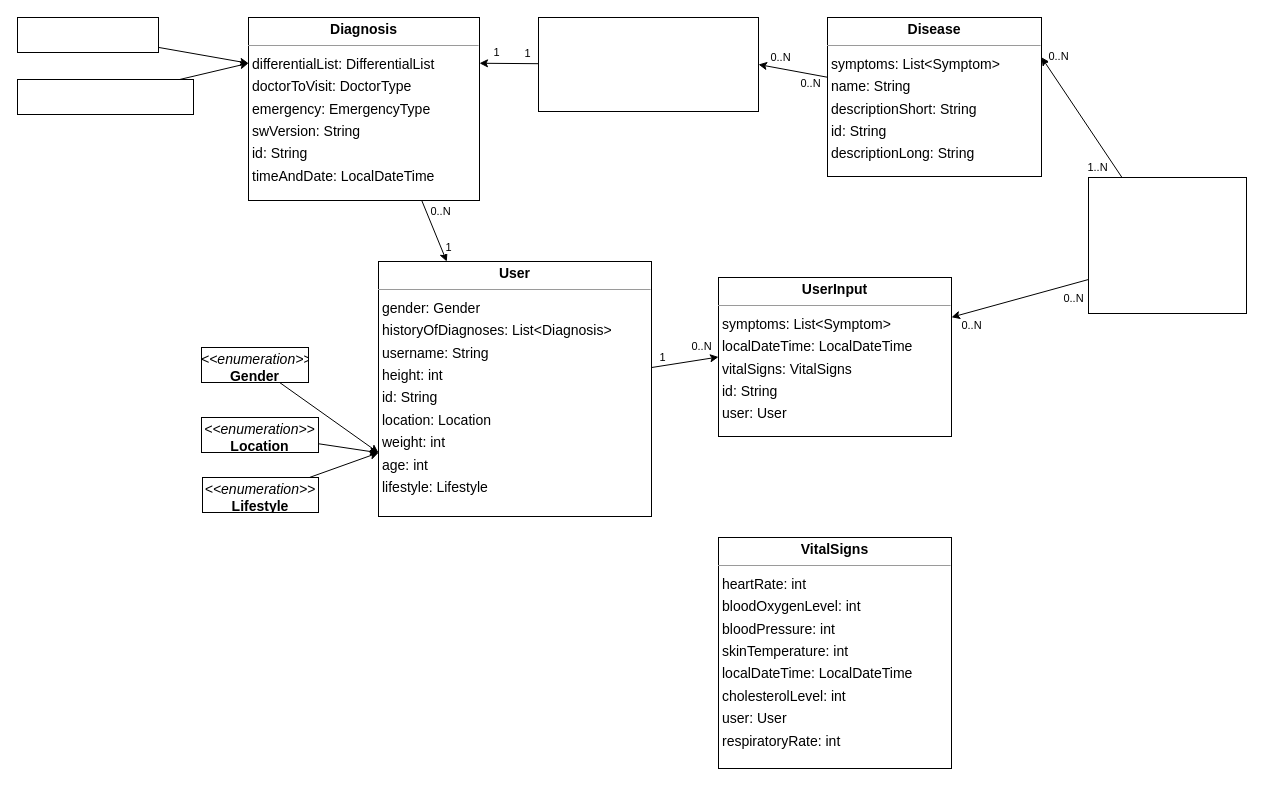
Image size: 1264x786. Some labels were removed from this diagram. The centre of each missing label's shape, as x and y in pixels:
<<enumeration>> DoctorType: [87,34]
<<enumeration>> EmergencyType: [105,96]
DifferentialList ddx: Map<Disease, Double> id: String: [648,64]
Symptom name: String description: String id: String: [1167,245]
